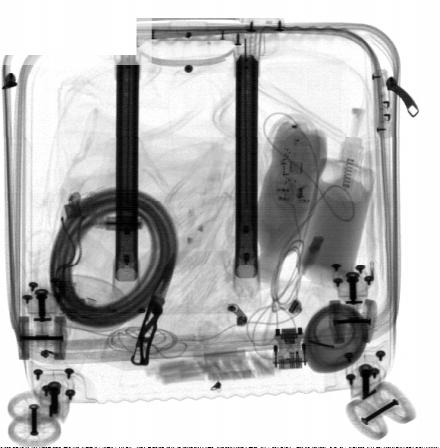Knife: (131, 252, 174, 367)
